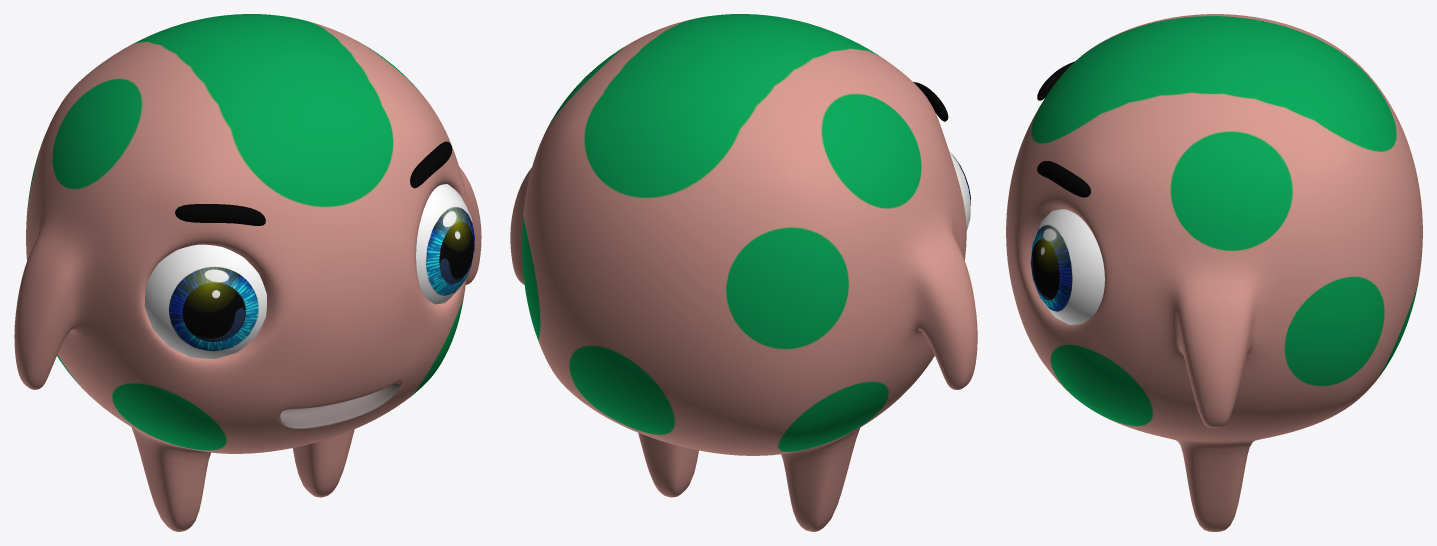
Rendered from avatar.glb.
3 renders of one model, left to right at view 1: azimuth 30°, elevation 25°; view 2: azimuth 150°, elevation 25°; view 3: azimuth 270°, elevation 25°, orthographic. The views are drawn at different scales.
Parts seen in each view (by area): view 1: Cube, Sphere; view 2: Cube; view 3: Cube, Sphere.
Part boxes in pixels (x1,y1,x2,y2): Cube: (14,14,481,531); Sphere: (144,184,474,358); Cube: (510,14,977,531); Cube: (1006,14,1422,531); Sphere: (1030,209,1104,324).
Size of the model in its own units: 0.8784 by 0.8684 by 0.7123.
Materials: 2 (2 with a texture image).
